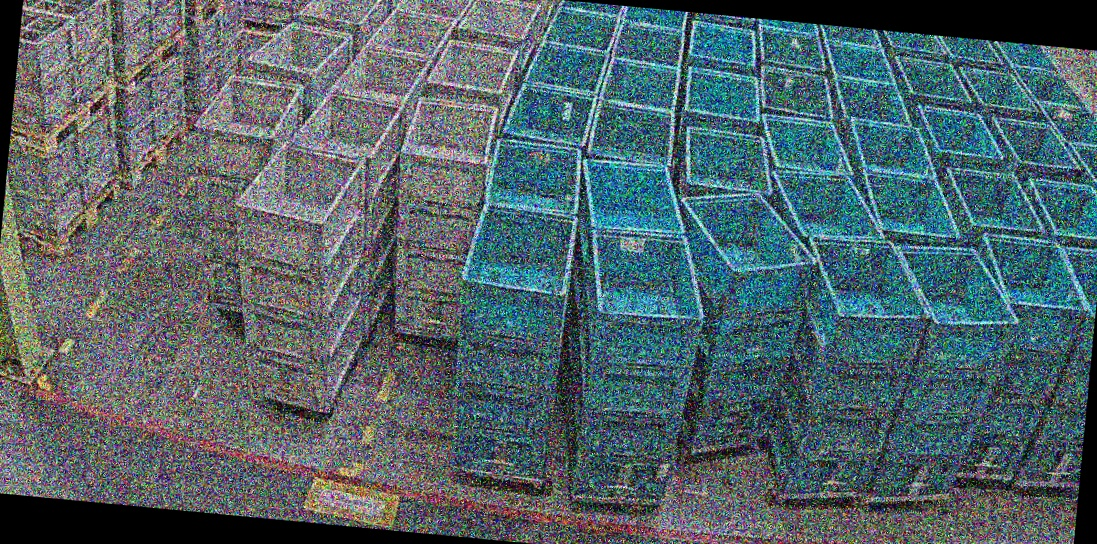4G: (217, 137, 383, 412), (177, 71, 308, 312), (383, 94, 500, 340)
B4: (761, 228, 940, 506), (655, 184, 825, 459), (559, 224, 713, 507), (869, 240, 1027, 512), (441, 199, 580, 482), (946, 231, 1092, 484)
